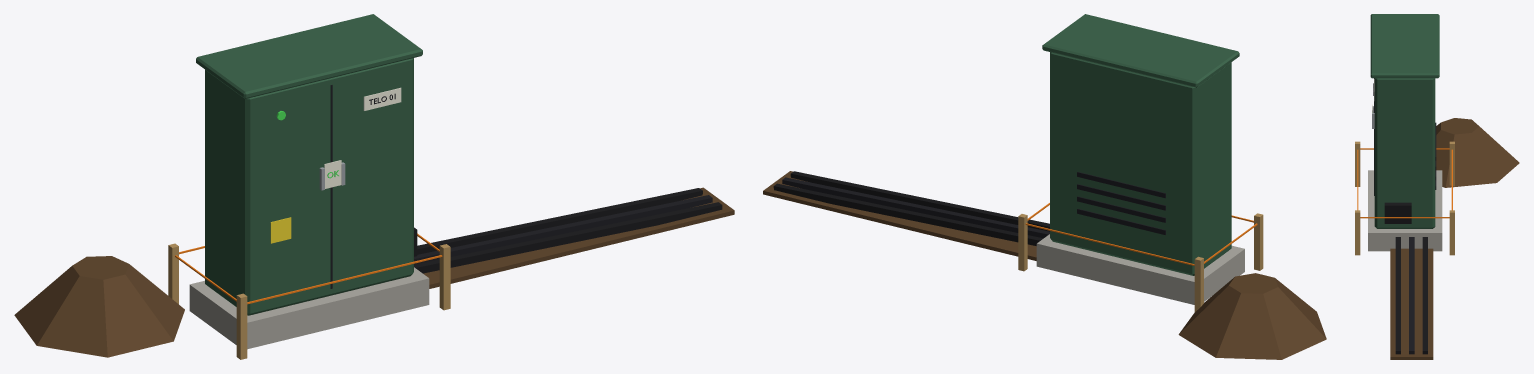
File: site.street-cabinet.glb
The picture shows the model from 3 angles, left to right: view 1: azimuth 30°, elevation 25°; view 2: azimuth 150°, elevation 25°; view 3: azimuth 270°, elevation 25°; orthographic projection. The views are drawn at different scales.
Visible parts, largest first — view 1: cab-body, spoil, cab-roof, cab-plinth, trench, trunk0, trunk1, trunk2, mark-peg0, mark-peg1, mark-peg3, plate; view 2: cab-body, spoil, cab-roof, cab-plinth, trench, trunk2, trunk1, trunk0, mark-peg2, mark-peg0, louvre1, louvre2 (+3 smaller); view 3: cab-body, cab-roof, spoil, trench, cab-plinth, trunk1, trunk0, trunk2, gland, mark-peg0, mark-peg1, mark-peg2 (+2 smaller).
Part boxes in pixels (box(x1,y1,x2,y2)): cab-body: box(205, 58, 413, 315); spoil: box(14, 256, 184, 357); cab-roof: box(196, 14, 422, 98); cab-plinth: box(189, 267, 429, 349); trench: box(423, 187, 734, 288); trunk0: box(414, 202, 722, 273); trunk1: box(414, 195, 712, 264); trunk2: box(417, 188, 702, 254); mark-peg0: box(236, 293, 247, 359); mark-peg1: box(439, 244, 450, 310); mark-peg3: box(168, 243, 178, 304); plate: box(363, 87, 401, 110); cab-body: box(1050, 52, 1231, 275); spoil: box(1178, 273, 1326, 359); cab-roof: box(1042, 14, 1239, 87); cab-plinth: box(1036, 234, 1244, 304); trench: box(763, 171, 1036, 260); trunk2: box(773, 183, 1043, 245); trunk1: box(782, 177, 1049, 238); trunk0: box(790, 171, 1049, 231); mark-peg2: box(1018, 214, 1027, 271); mark-peg0: box(1254, 213, 1263, 270); louvre1: box(1077, 196, 1165, 222); louvre2: box(1077, 184, 1165, 210); cab-body: box(1374, 78, 1435, 228); cab-roof: box(1370, 14, 1439, 78); spoil: box(1436, 118, 1519, 187); trench: box(1390, 248, 1433, 359); cab-plinth: box(1368, 170, 1442, 251); trunk1: box(1409, 237, 1414, 354); trunk0: box(1395, 237, 1400, 354); trunk2: box(1422, 237, 1427, 354); gland: box(1384, 202, 1411, 223); mark-peg0: box(1355, 141, 1360, 186); mark-peg1: box(1355, 210, 1360, 255); mark-peg2: box(1449, 210, 1454, 255).
Bounding box in the file's own units: 3.89 × 1.44 × 1.22.
